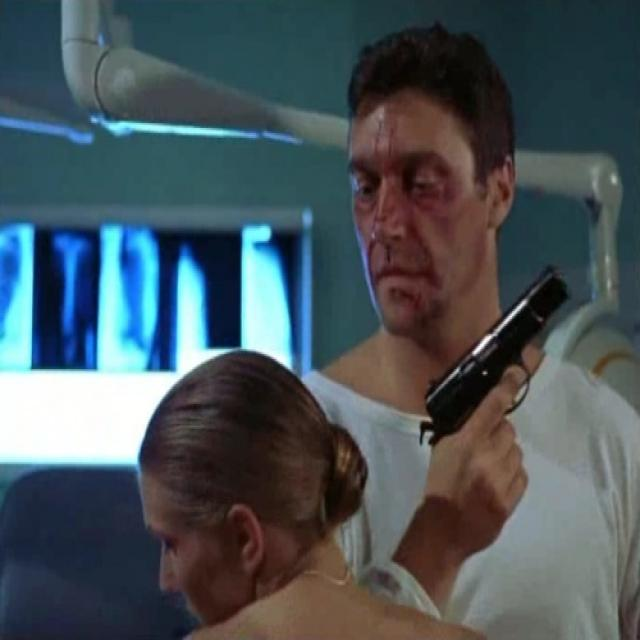weapons: (414, 252, 575, 504)
